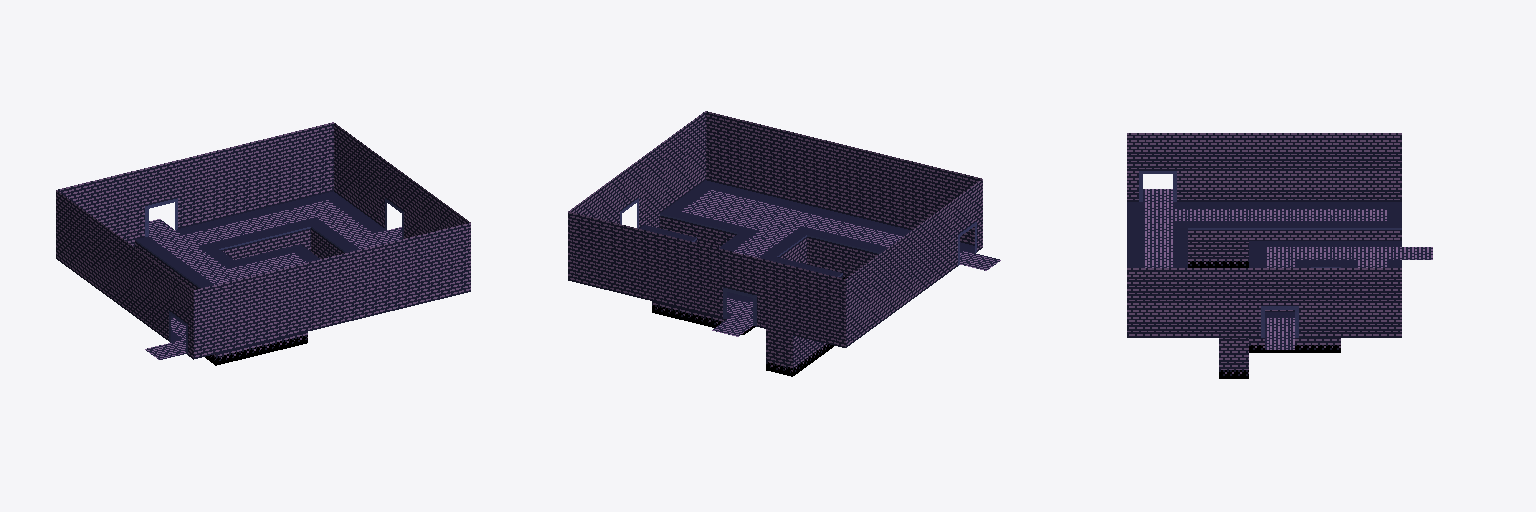
3 views of the same model, side by side, from view 1: azimuth 30°, elevation 25°; view 2: azimuth 150°, elevation 25°; view 3: azimuth 270°, elevation 25° (orthographic).
Parts seen in each view (by area): view 1: Default; view 2: Default; view 3: Default.
Part boxes in pixels (x1,y1,x2,y2): Default: (56,122,470,365); Default: (568,111,1000,376); Default: (1127,133,1432,378).
Size of the model in its own units: 50 by 16 by 40.
1 materials, 1 textured.